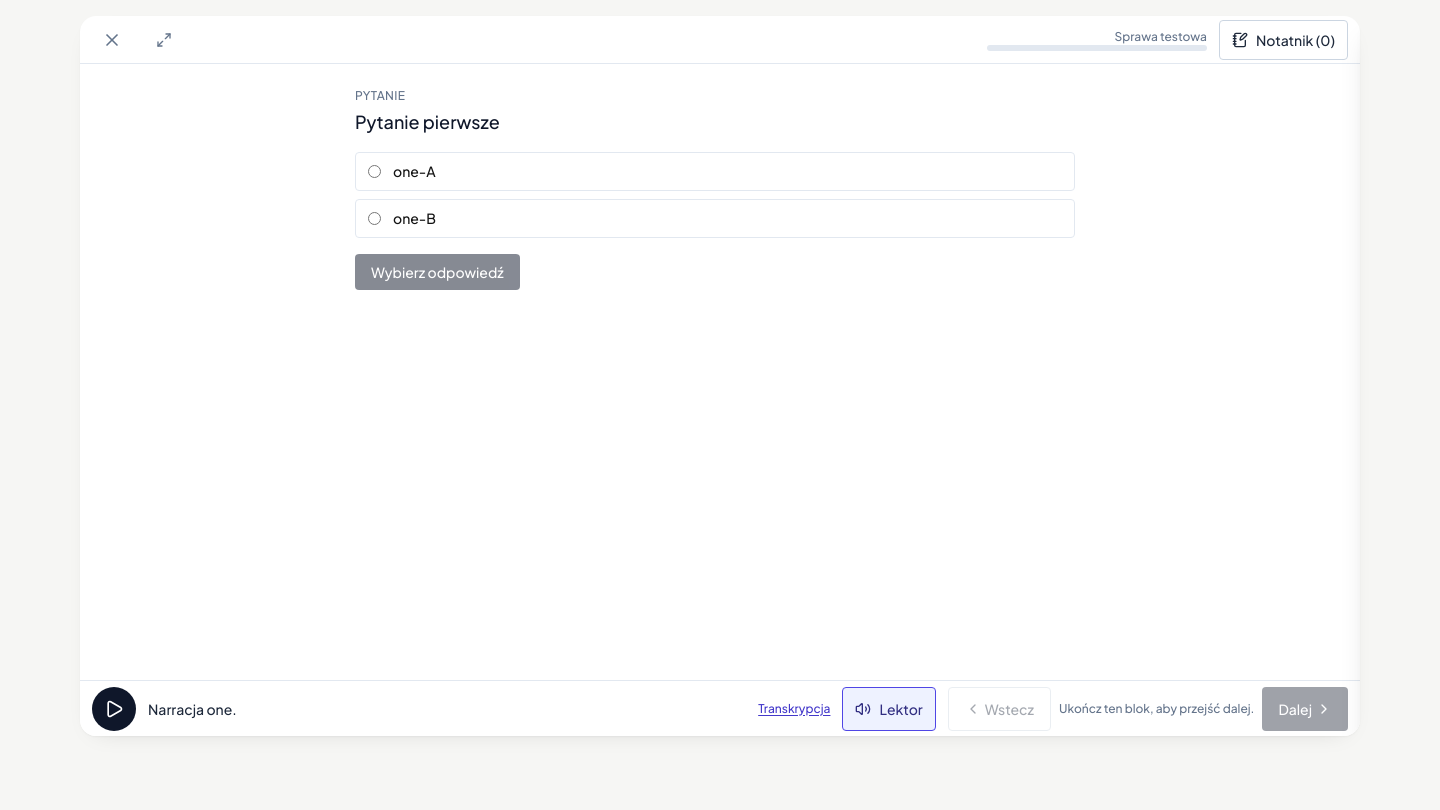
Test: CoursePlayer: powłoka (postęp, nawigacja, notatnik, lektor) › ukończenie kursu › ostatni blok OCENIANY (QUIZ): zapis pokazuje normalny ekran feedbacku "Poprawna odpowiedź!" (D-076 - blok oceniany kończący kurs NIE pomija ekranu feedbacku), "
The image size is (1440, 810).
Step 1. Click the radio button labelled "one-A" → (374,172), box x1=368 y1=165 x2=381 y2=178
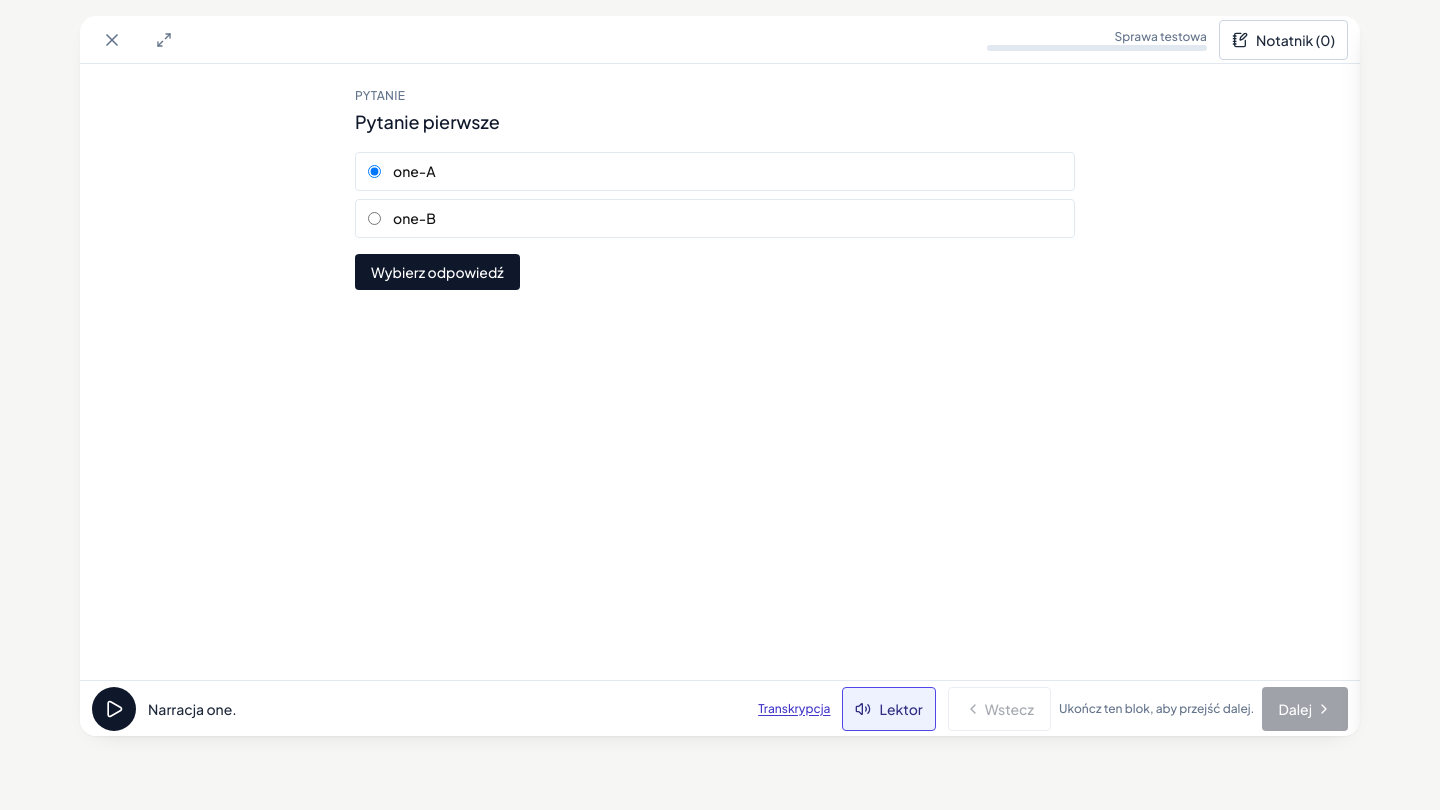
Step 2. Click the button "Wybierz odpowiedź" → (437,272), box x1=355 y1=254 x2=520 y2=290
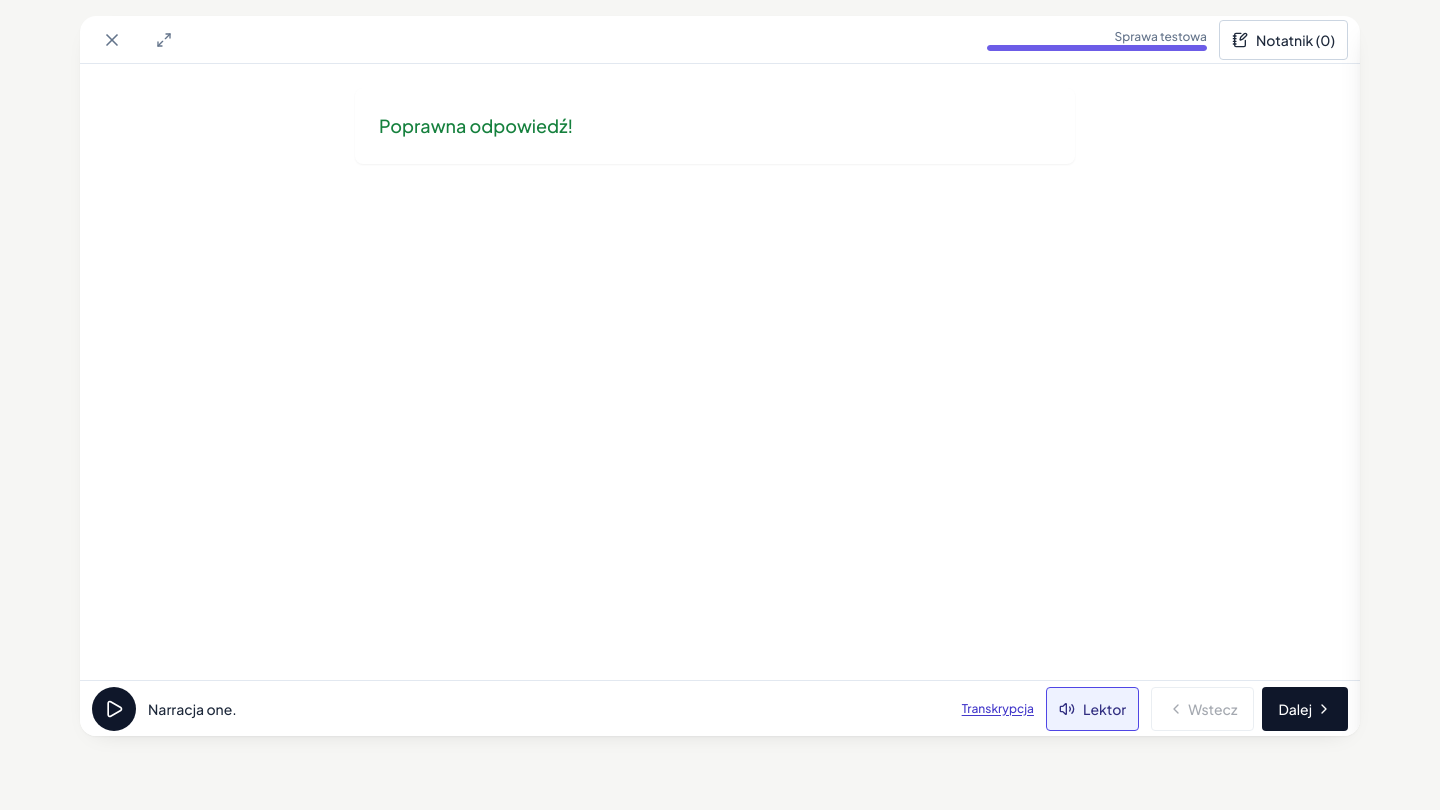
expect the heading "Sprawa zamknięta" is not shown: met
expect the text "Poprawna odpowiedź!" is shown: met, box x1=379 y1=114 x2=573 y2=137
Step 3. Click the button "Dalej" → (1305,708), box x1=1262 y1=686 x2=1348 y2=730
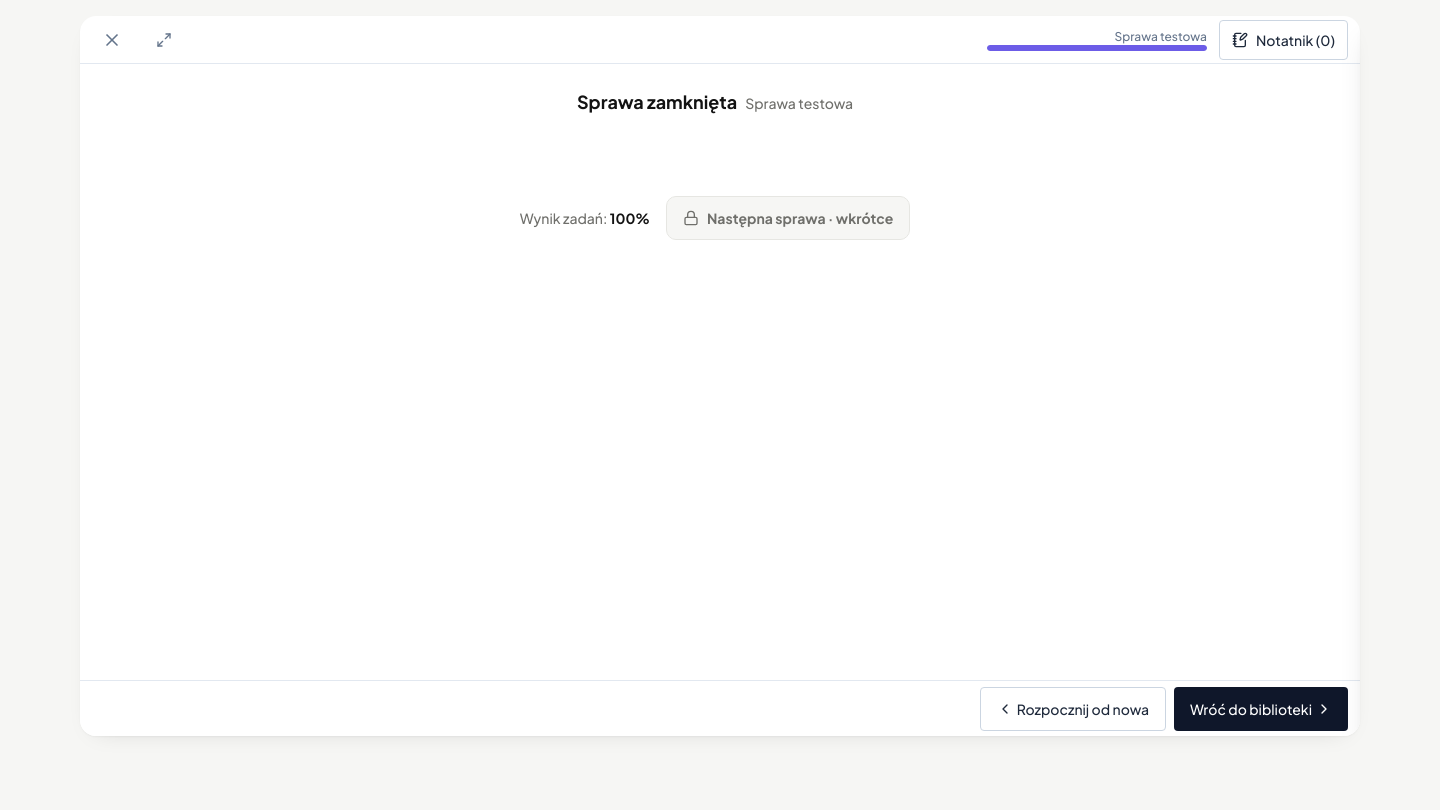
expect the text "Poprawna odpowiedź!" is gone: met
expect the button "Lektor" is gone: met
